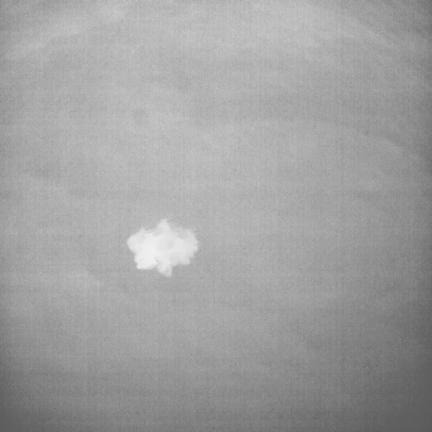flukeprints: (128, 219, 198, 276)
